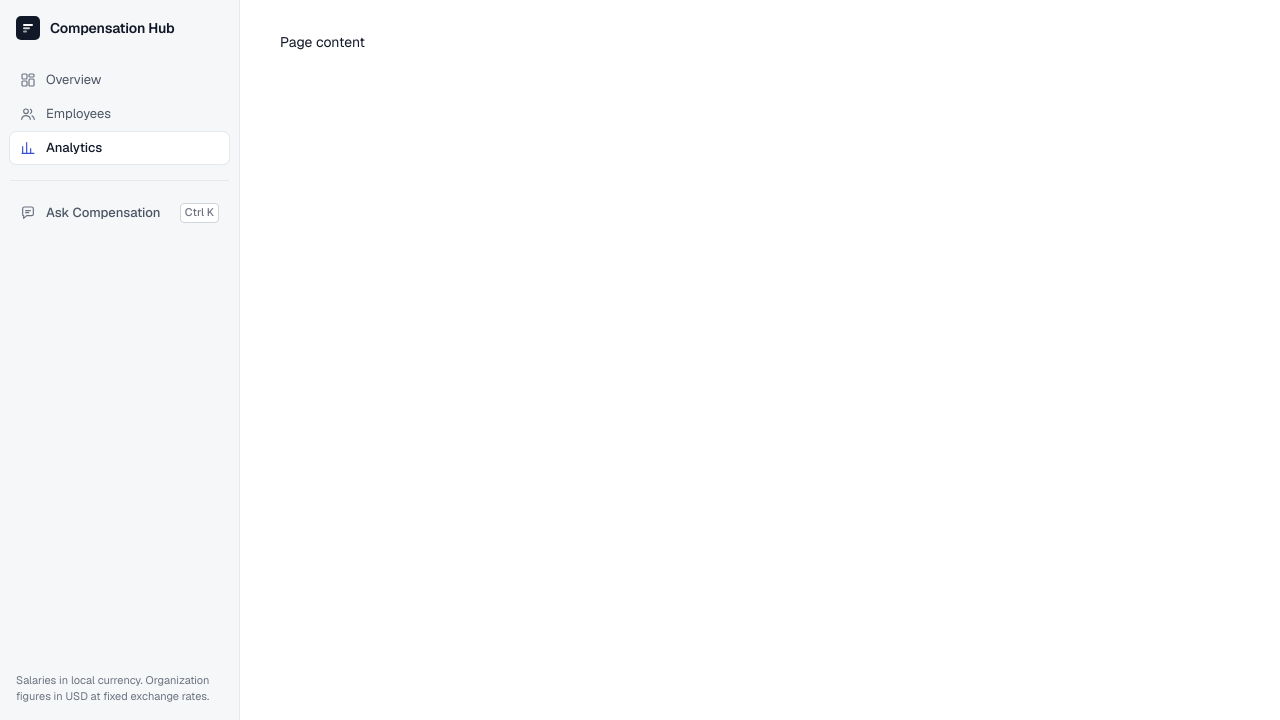
Test: AppShell › opens Ask Compensation from the launcher and closes it again
Click the button "Ask Compensation Ctrl K". click: (120, 213)
box: [10,197,229,229]
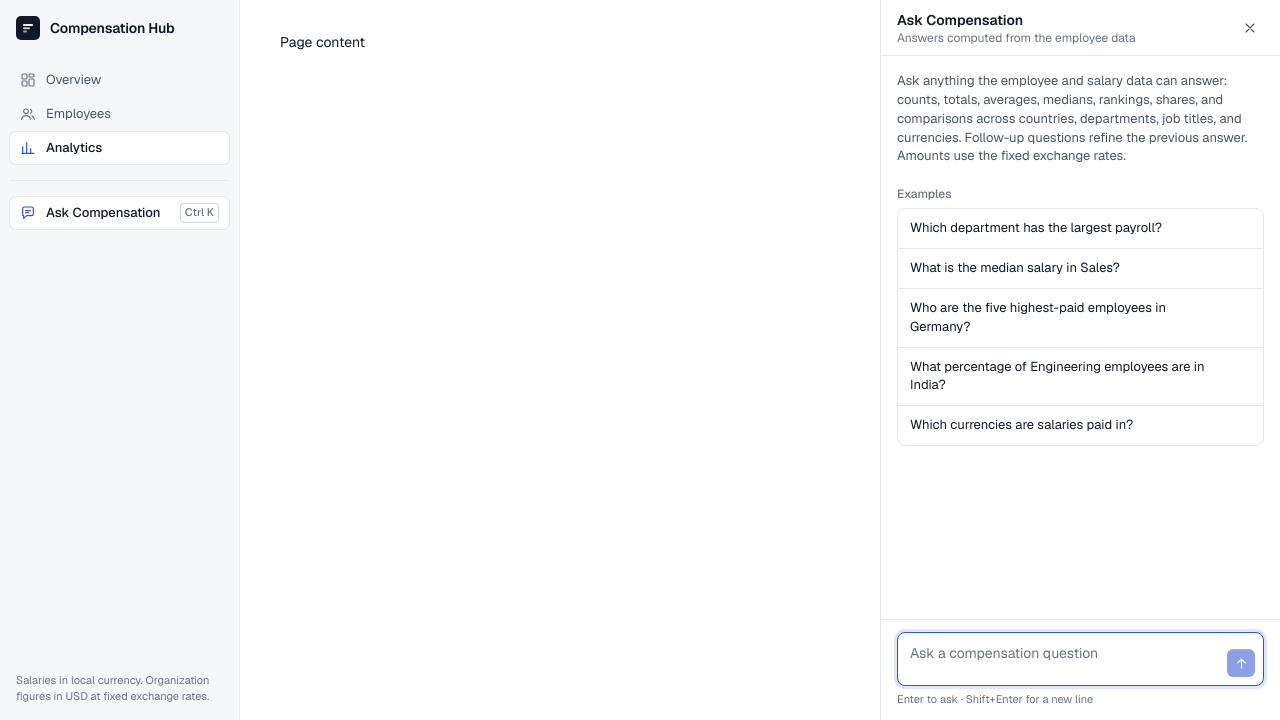
Expected: the dialog "Ask Compensation" is shown, [880,0,1279,719]
Click the button named "Close Ask Compensation". click: (1250, 28)
box: [1236,14,1264,42]
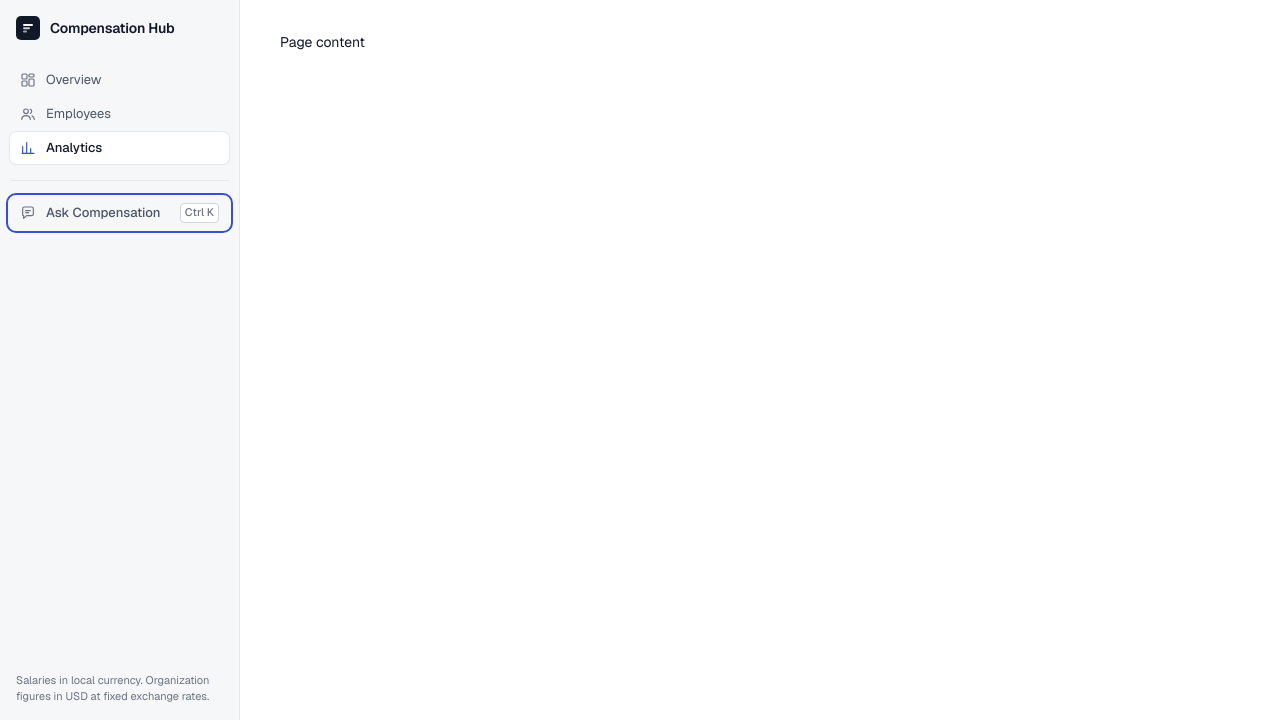
Expected: the dialog is gone
